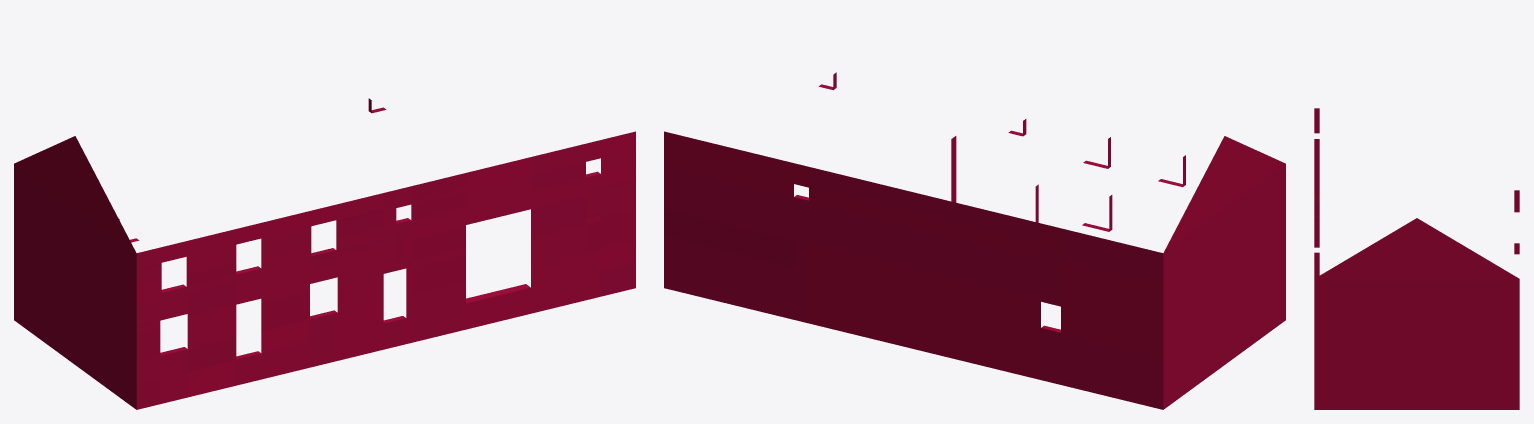
File: SM_Bld_080_Masonry.glb
3 views of the same model, side by side, from view 1: azimuth 30°, elevation 25°; view 2: azimuth 150°, elevation 25°; view 3: azimuth 270°, elevation 25° (orthographic). The views are drawn at different scales.
Visible parts, largest first — view 1: SM_Bld_080_Masonry; view 2: SM_Bld_080_Masonry; view 3: SM_Bld_080_Masonry.
Part boxes in pixels (x1=…): SM_Bld_080_Masonry: x1=14, y1=98, x2=635, y2=409; SM_Bld_080_Masonry: x1=664, y1=72, x2=1285, y2=409; SM_Bld_080_Masonry: x1=1314, y1=108, x2=1519, y2=409.
Size of the model in its own units: 20 by 8.78 by 8.5.
